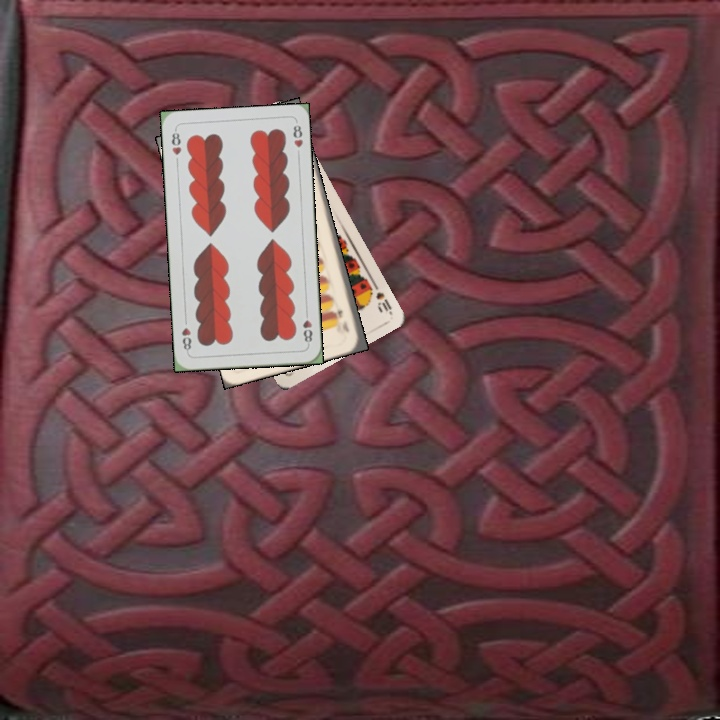E10: (333, 306, 352, 335)
H8: (299, 307, 315, 348), (168, 126, 183, 158)
S10: (368, 278, 394, 315)
